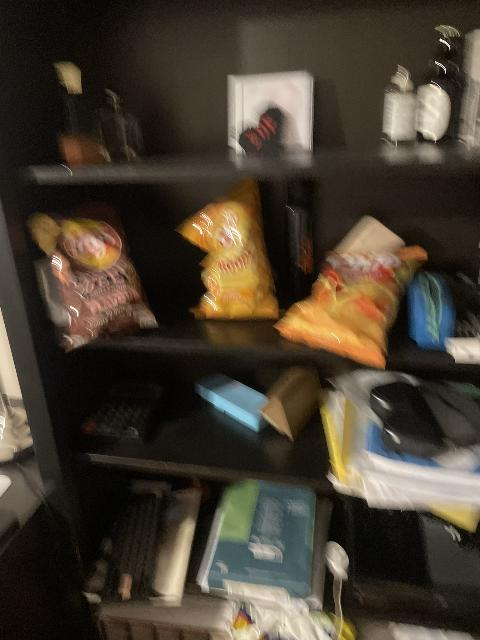Chio Cascaval 125g: (273, 241, 424, 371)
Chio Hula Hoops Cheese 70g: (174, 177, 278, 321)
Lays Beef Grilled Ribs 125g: (28, 205, 162, 349)
